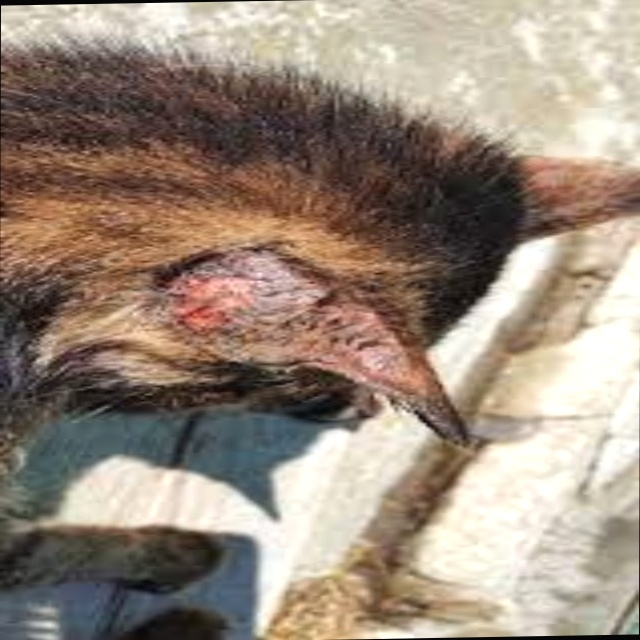ringworm: (142, 252, 359, 352)
